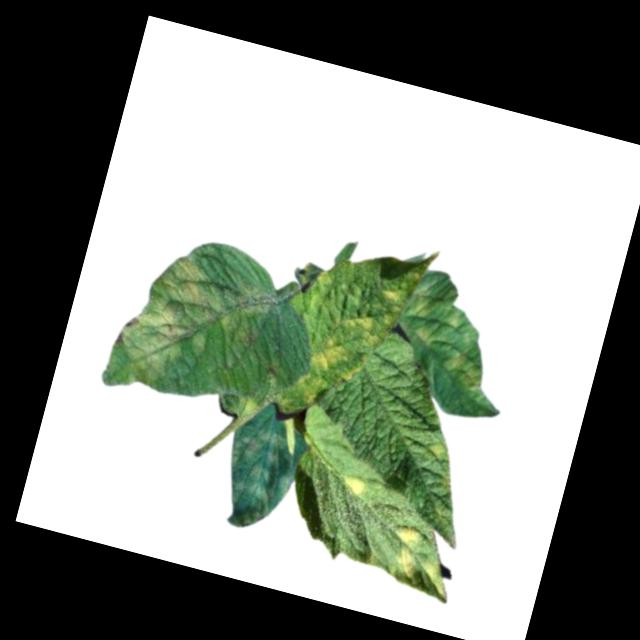Leaf_Mold: (108, 244, 278, 416), (391, 276, 508, 399), (207, 422, 309, 541), (379, 523, 461, 603), (306, 331, 370, 386), (334, 308, 387, 349), (419, 431, 450, 465), (336, 468, 370, 499), (376, 282, 407, 307)
